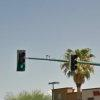Traffic light: (10, 44, 31, 84)
